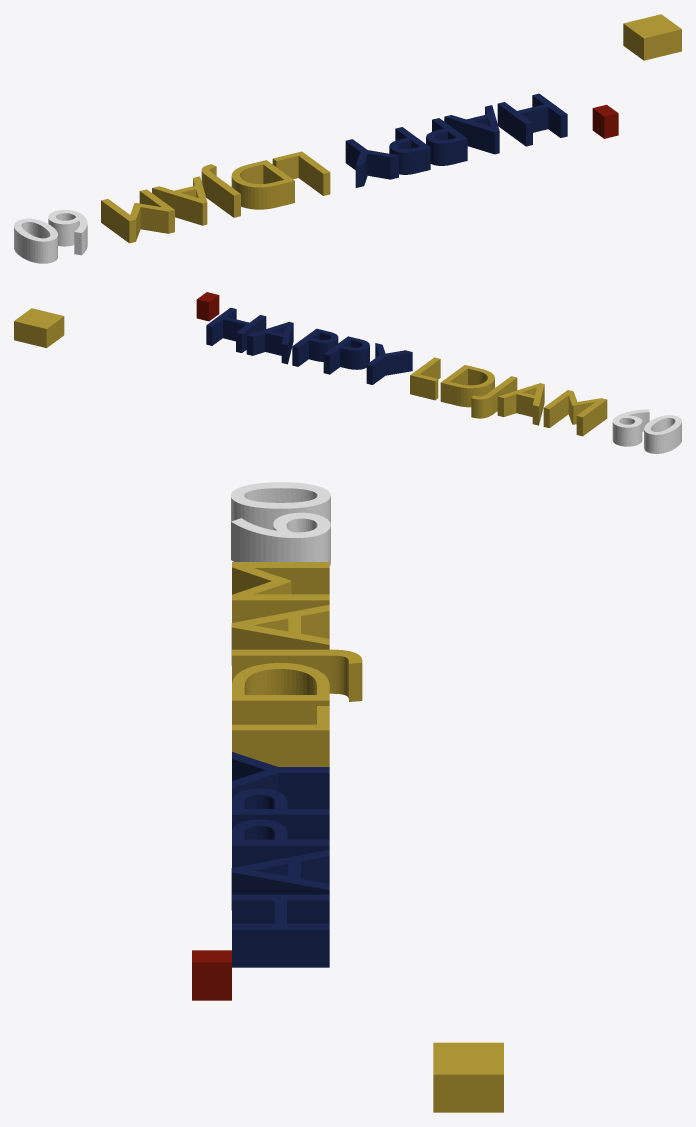
File: rot_happy_ldjam_60.gltf
The picture shows the model from 3 angles, top to bottom: view 1: azimuth 30°, elevation 25°; view 2: azimuth 150°, elevation 25°; view 3: azimuth 270°, elevation 25°; orthographic projection. The views are drawn at different scales.
Visible parts, largest first — view 1: rot.happy.ldjam.60; view 2: rot.happy.ldjam.60; view 3: rot.happy.ldjam.60.
Boxes of the visible parts, <box> form: rot.happy.ldjam.60: <box>14,14,681,263</box>; rot.happy.ldjam.60: <box>14,292,681,453</box>; rot.happy.ldjam.60: <box>192,482,503,1112</box>.
Bounding box in the file's own units: 22.34 × 0.6722 × 4.98.
